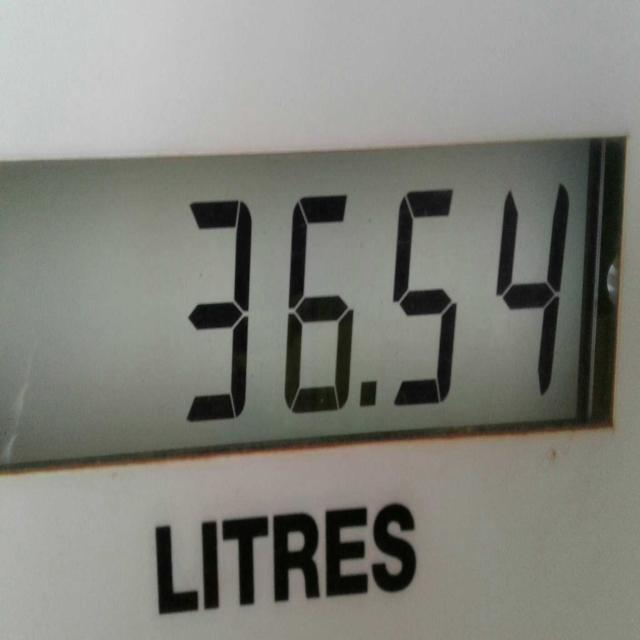.: (352, 374, 383, 428)
3: (163, 170, 262, 420)
4: (482, 172, 578, 401)
5: (374, 183, 465, 442)
6: (284, 192, 354, 414)
